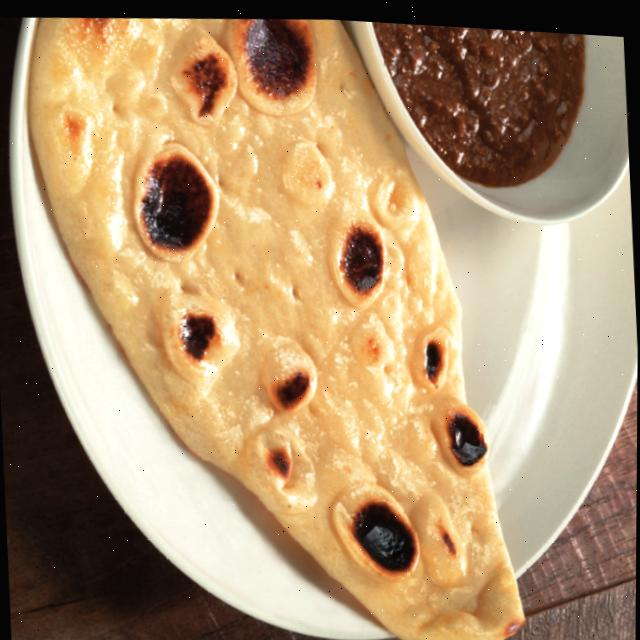牛肉菜式: (346, 16, 631, 228)
